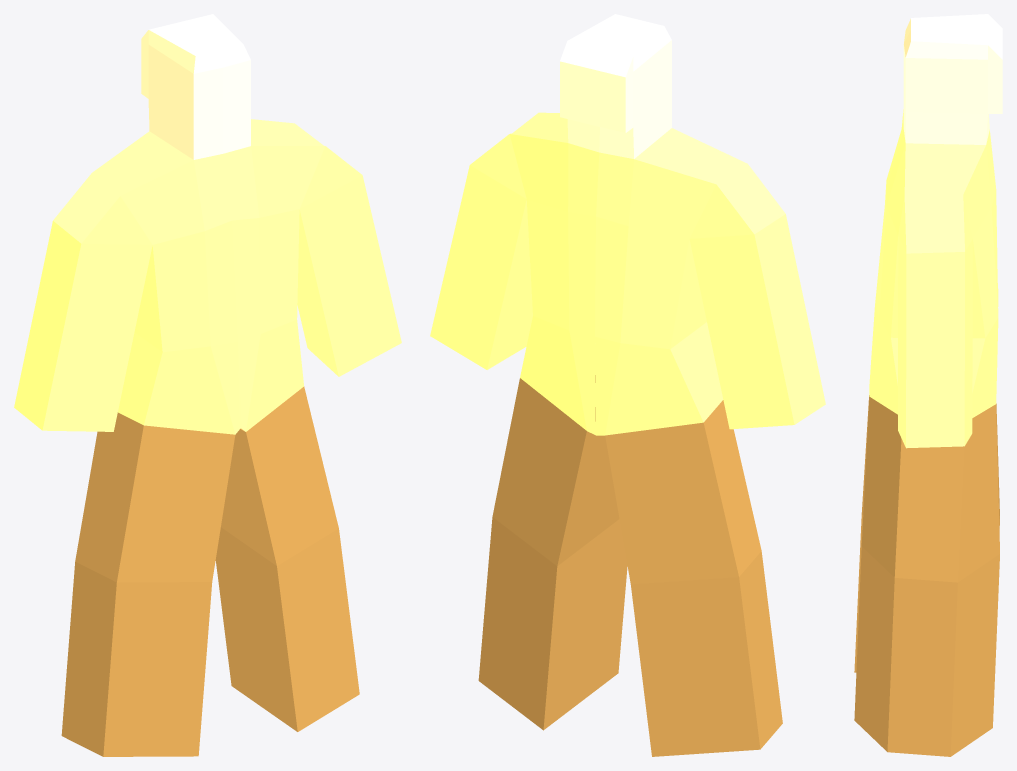
Rendered from people.glb.
3 renders of one model, left to right at view 1: azimuth 30°, elevation 25°; view 2: azimuth 150°, elevation 25°; view 3: azimuth 270°, elevation 25°, orthographic. The views are drawn at different scales.
Visible parts, largest first — view 1: Cube; view 2: Cube; view 3: Cube.
Boxes of the visible parts, box(x1,y1,x2,y2) form: Cube: box(14, 14, 401, 756); Cube: box(430, 14, 825, 756); Cube: box(854, 14, 1002, 756).
Bounding box in the file's own units: 0.4494 × 0.8112 × 0.1619.
